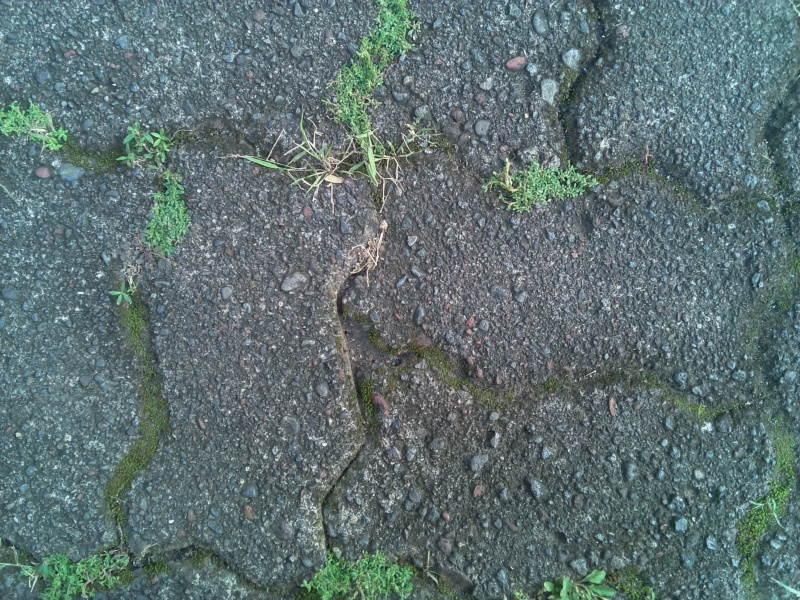Weed: (326, 1, 417, 131), (486, 151, 600, 218), (249, 125, 346, 201), (289, 547, 415, 597), (27, 547, 133, 600), (346, 122, 426, 191), (1, 95, 72, 161), (140, 177, 193, 261), (112, 113, 178, 174), (530, 563, 628, 600), (345, 216, 390, 280), (743, 488, 791, 535), (409, 546, 446, 587), (103, 275, 138, 310)
